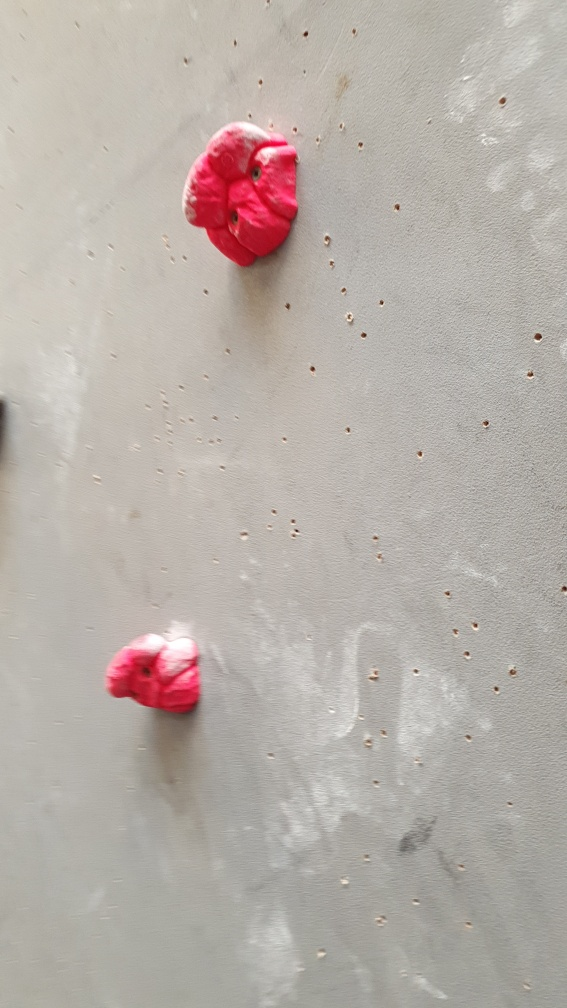Jug: (178, 116, 302, 271), (105, 630, 204, 717)
